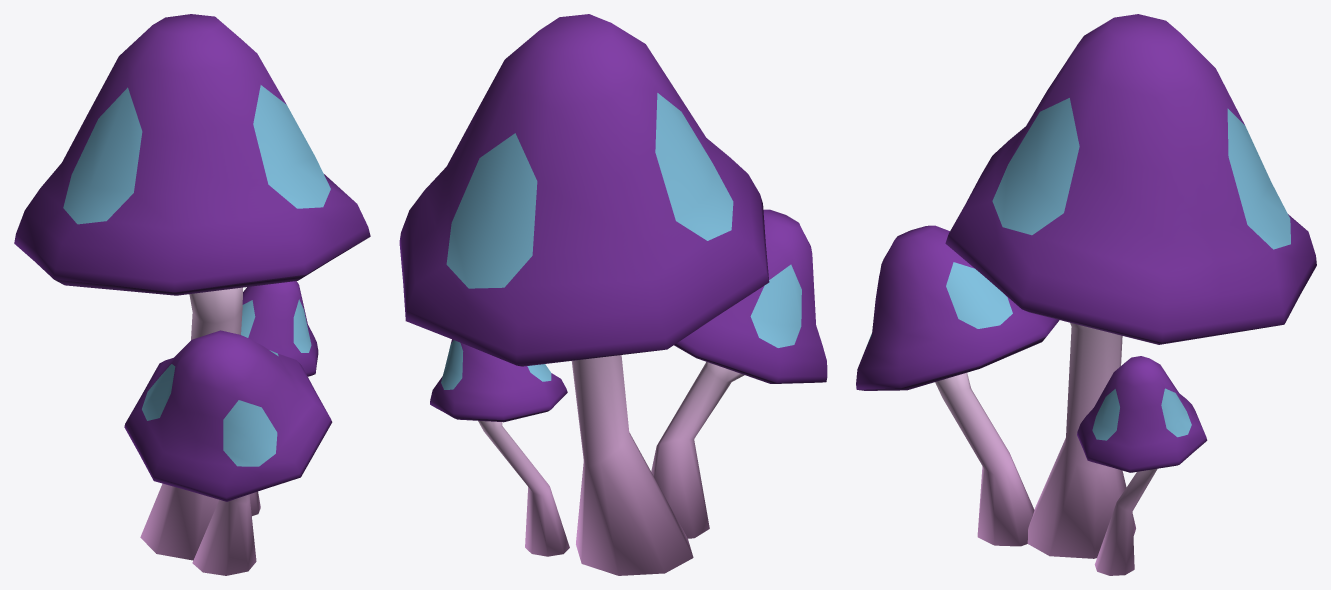
The model's file is PurpleMushroom.fbx.
The picture shows the model from 3 angles, left to right: view 1: azimuth 30°, elevation 25°; view 2: azimuth 150°, elevation 25°; view 3: azimuth 270°, elevation 25°; orthographic projection. The views are drawn at different scales.
Visible parts, largest first — view 1: Sphere.101; view 2: Sphere.101; view 3: Sphere.101.
Part boxes in pixels (x1,y1,x2,y2): Sphere.101: (14, 14, 370, 575); Sphere.101: (399, 14, 827, 575); Sphere.101: (856, 14, 1316, 575).
Bounding box in the file's own units: 69.44 × 85.32 × 106.
